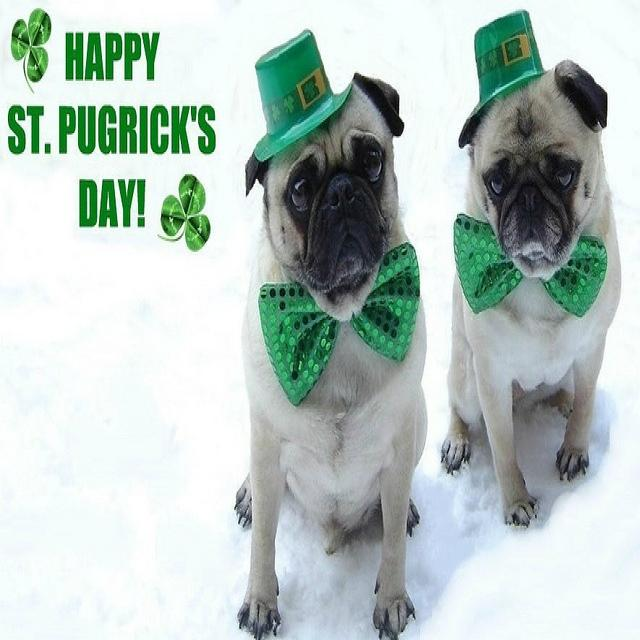dog: (233, 25, 426, 630), (442, 49, 623, 524)
